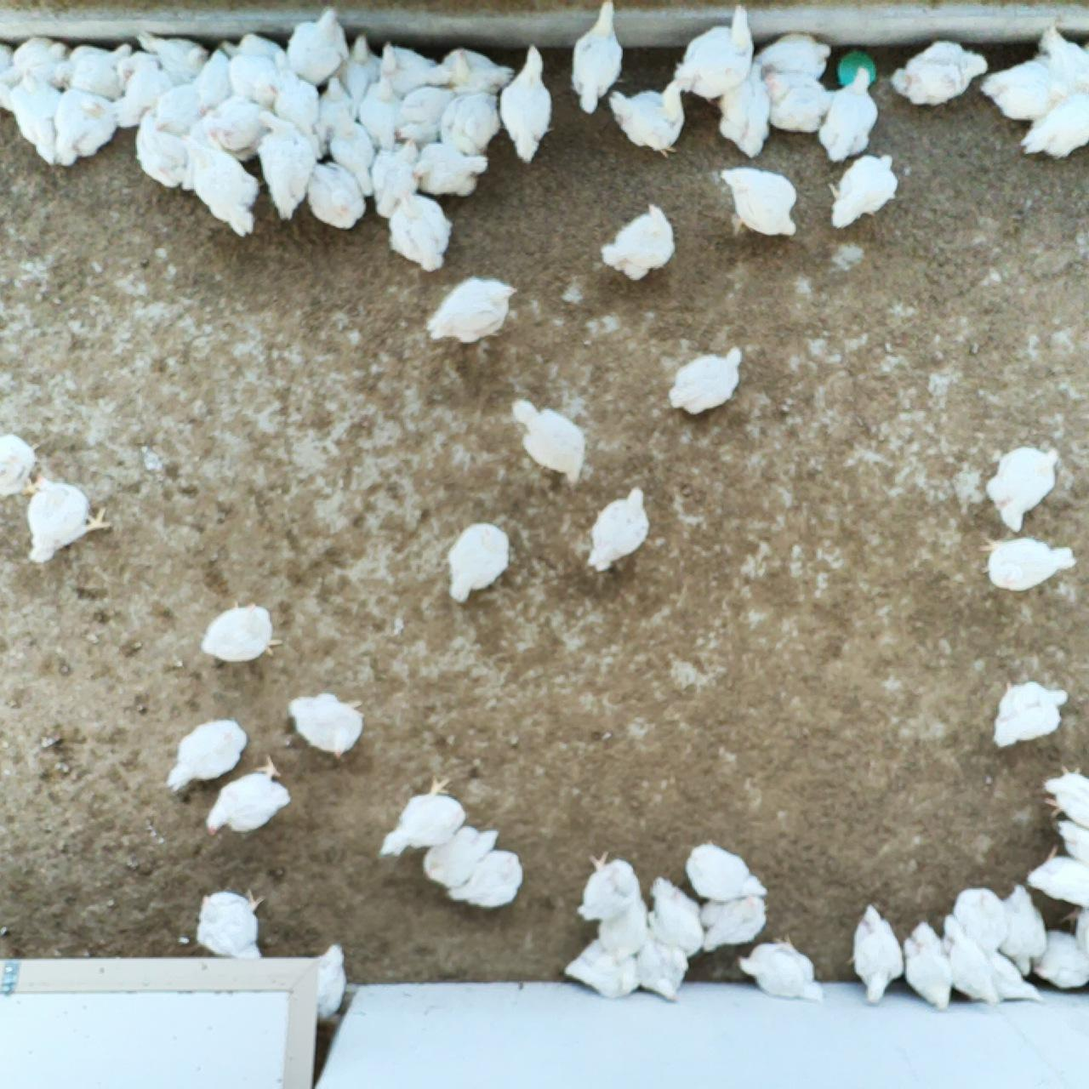chicken: (670, 1, 757, 106), (180, 131, 264, 239), (23, 473, 113, 565), (205, 754, 294, 844), (379, 773, 469, 861), (510, 393, 588, 490), (886, 38, 990, 110), (498, 42, 557, 166), (255, 108, 317, 223), (164, 715, 250, 795), (608, 75, 687, 162), (984, 445, 1061, 534), (736, 933, 828, 1007), (425, 275, 522, 345), (568, 0, 626, 116), (976, 531, 1079, 595), (597, 201, 677, 283), (846, 902, 908, 1007), (718, 164, 801, 241), (584, 484, 653, 573), (817, 66, 880, 163), (825, 151, 901, 231), (939, 911, 1002, 1007), (991, 676, 1071, 751), (665, 344, 746, 418), (188, 94, 274, 163), (445, 519, 513, 606), (286, 688, 367, 761), (198, 599, 284, 667), (7, 66, 63, 168), (387, 189, 454, 274), (419, 824, 503, 891), (683, 839, 770, 903), (193, 886, 269, 959), (980, 54, 1059, 124), (52, 87, 120, 168), (718, 60, 772, 162), (1019, 85, 1089, 163), (285, 6, 352, 87), (50, 41, 137, 101), (562, 936, 640, 1001), (574, 849, 643, 922), (901, 919, 954, 1014), (647, 872, 704, 959), (447, 849, 526, 909), (764, 68, 834, 135), (635, 918, 690, 1003), (411, 140, 490, 199), (328, 103, 376, 199), (1001, 882, 1049, 978), (134, 108, 189, 190), (306, 159, 367, 232), (371, 136, 424, 220), (271, 47, 320, 137), (438, 89, 502, 156), (1025, 842, 1089, 909), (136, 28, 210, 85), (113, 59, 173, 128), (381, 40, 450, 100), (699, 894, 768, 952), (754, 30, 834, 80), (596, 894, 649, 969), (1036, 23, 1089, 97), (395, 85, 460, 145), (315, 75, 359, 160), (443, 46, 516, 97), (1030, 927, 1089, 990), (1, 35, 72, 86), (952, 885, 1007, 949), (359, 76, 404, 152), (1039, 761, 1089, 829), (339, 32, 383, 103), (987, 948, 1043, 1003), (227, 52, 280, 109), (0, 431, 41, 502), (192, 46, 231, 117), (316, 942, 349, 1021), (219, 31, 289, 64), (1052, 818, 1089, 863), (118, 50, 158, 90)
